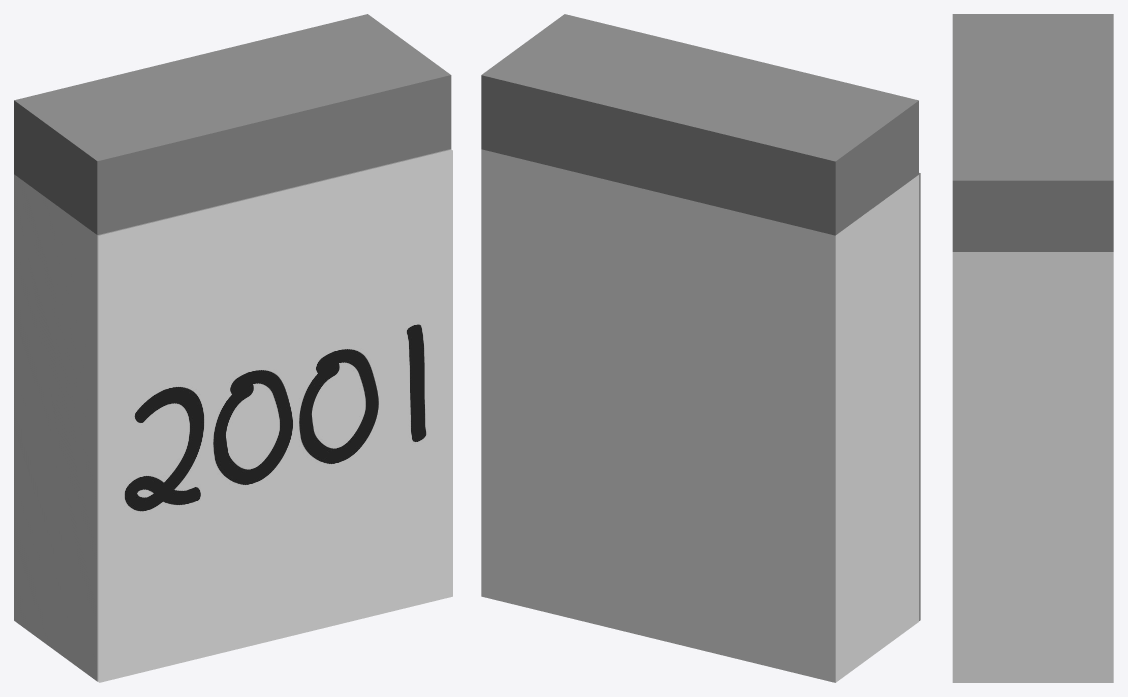
File: calendar.fbx
3 views of the same model, side by side, from view 1: azimuth 30°, elevation 25°; view 2: azimuth 150°, elevation 25°; view 3: azimuth 270°, elevation 25° (orthographic). The views are drawn at different scales.
Visible parts, largest first — view 1: sheet02, grey, paper, sheet03; view 2: paper, grey; view 3: paper, grey.
Part boxes in pixels (x1,y1,x2,y2): sheet02: (99,150,452,682); grey: (14,14,451,234); paper: (14,149,451,681); sheet03: (98,149,451,682); paper: (481,149,918,682); grey: (481,14,918,235); paper: (952,252,1113,682); grey: (952,14,1113,251).
Size of the model in its own units: 41.89 by 17.45 by 58.9.
